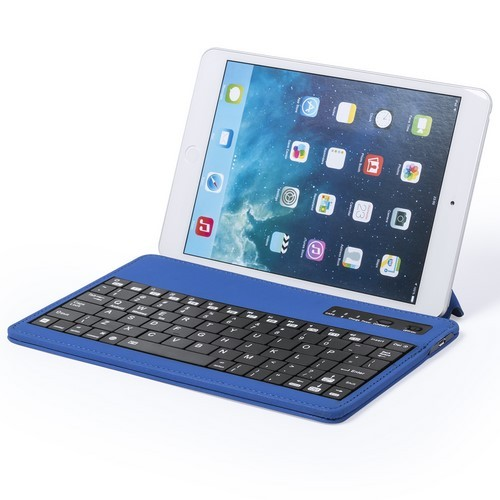Teclado: (7, 254, 458, 425)
